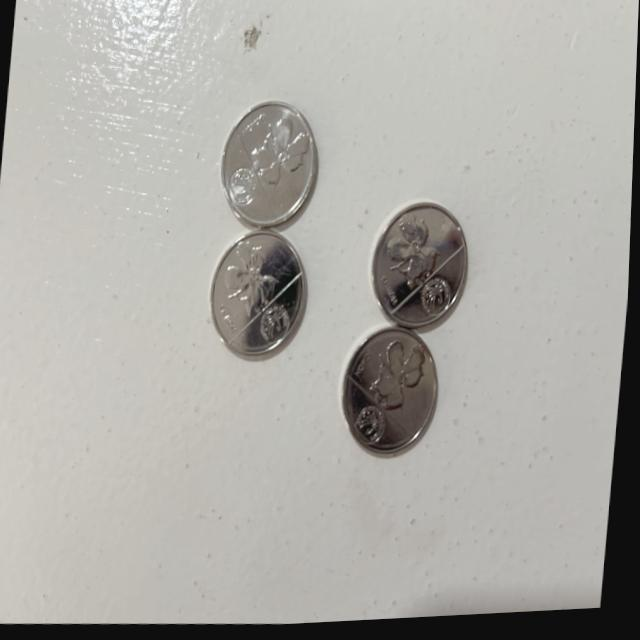25Cent_New_Back: (378, 213, 444, 299), (218, 240, 279, 330), (250, 112, 310, 203), (375, 342, 431, 422)
